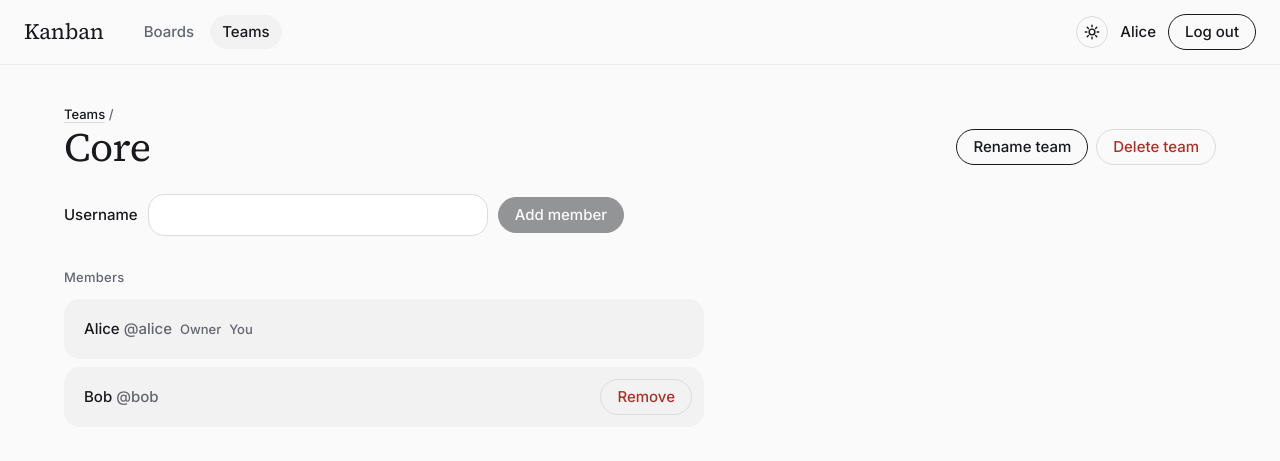
Scenario: team detail as owner › shows why adding failed
The image size is (1280, 461).
Type "zed" into the field labelled "Username". click: {"x": 318, "y": 215}
box: [148,194,488,236]
Then press Enter
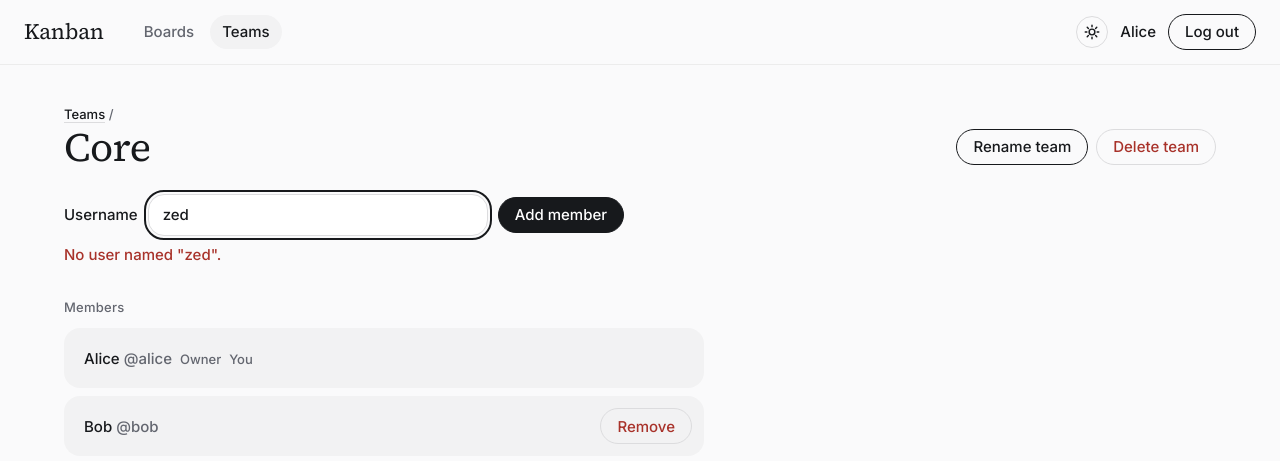
expect the message reads "No user named \"zed\".": met, box [64,245,221,264]
